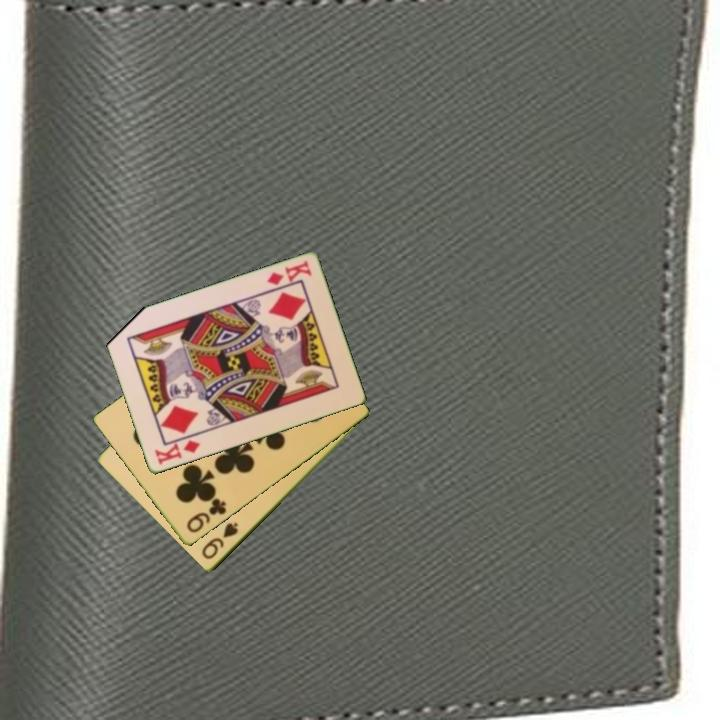9c: (183, 495, 229, 536)
9s: (198, 519, 241, 563)
Kd: (263, 257, 314, 289), (151, 437, 203, 468)
